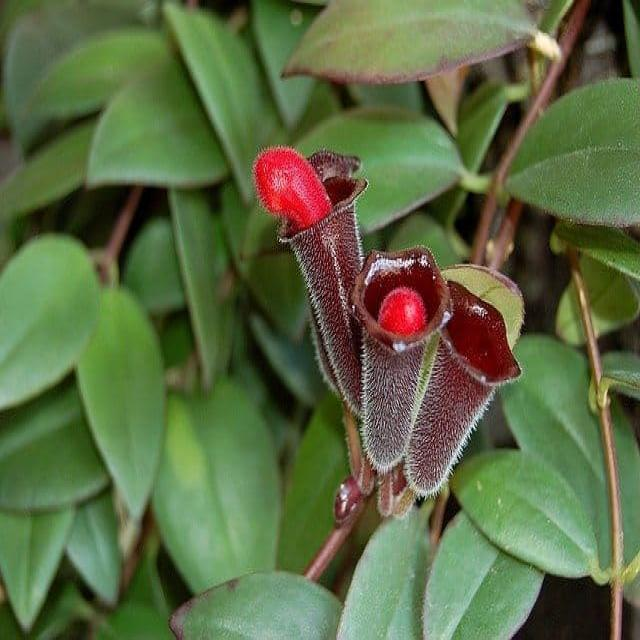Lipstick-Plant: (248, 142, 524, 504)
